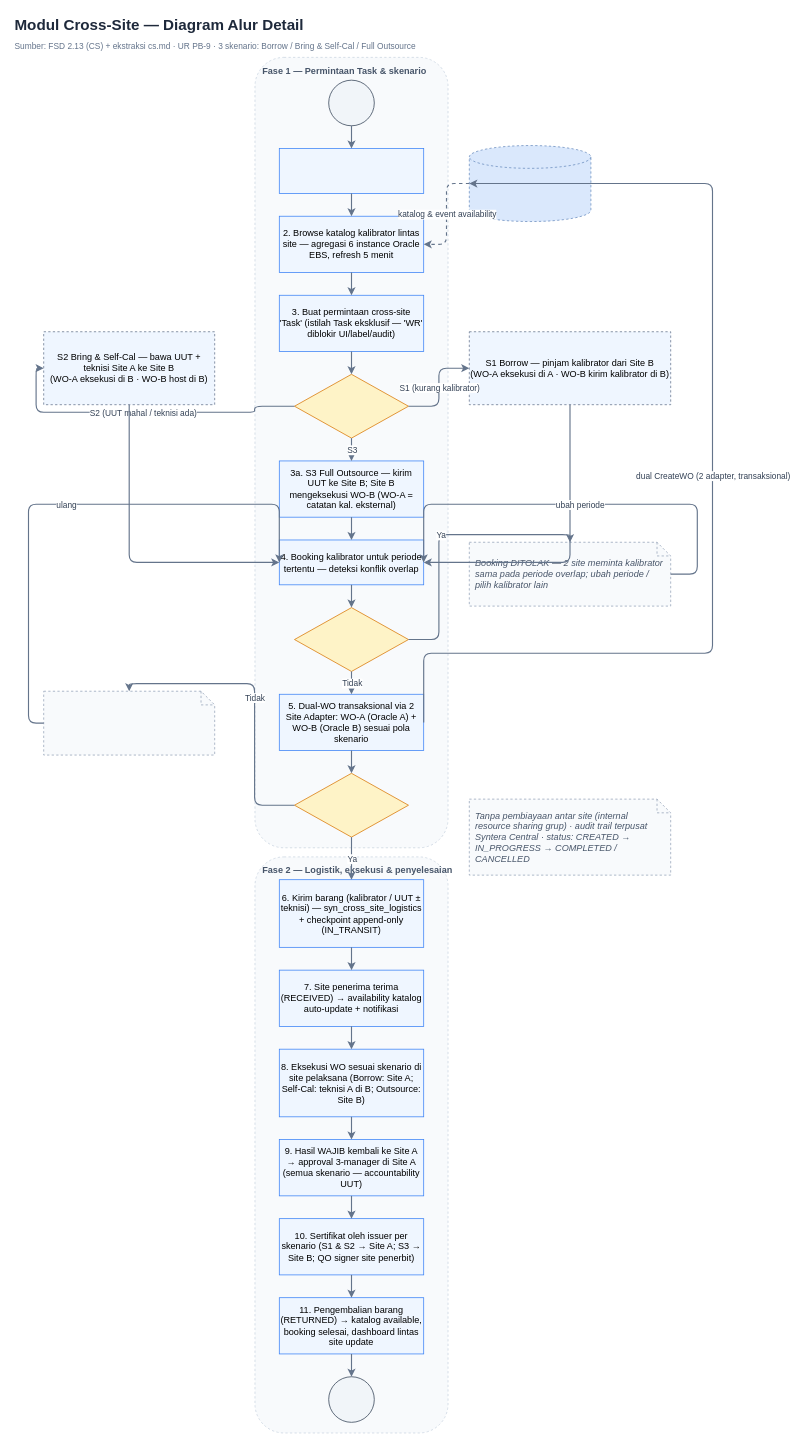
Image size: 803x1446. Some labels were removed from this diagram. Here are the shapes that lost their labels. From the top down, the centre of each, then its label:
(351,102): Mulai (Site A butuh kalibrasi tak terpenuhi lokal)
(351,170): 1. Login → pilih default site; grant multi-site (syn_user_site_access)
(530,183): Oracle EBS EAM ×6 (via Site Adapter)
(351,406): Skenario?
(351,639): Konflik booking?
(129,722): WO-A dibatalkan (kompensasi dual-WO) → booking ulang / pilih skenario lain
(351,805): WO-B berhasil?
(351,1399): Selesai
